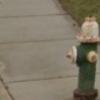a fire hydrant: (66, 14, 100, 98)
